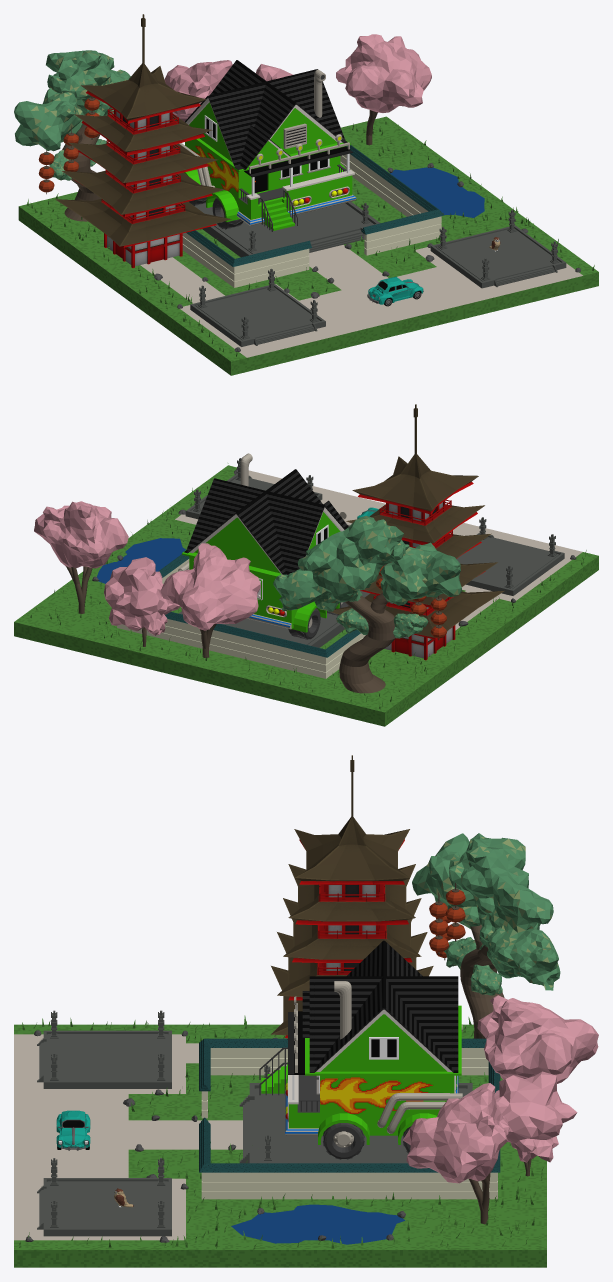
3 views of the same model, one above another, from view 1: azimuth 30°, elevation 25°; view 2: azimuth 150°, elevation 25°; view 3: azimuth 270°, elevation 25° (orthographic). The views are drawn at different scales.
Visible parts, largest first — view 1: Cube.005, Cube.1474, VEHICLES_VOLKSWAGEN; view 2: Cube.005, Cube.1474; view 3: Cube.005, Cube.1474, VEHICLES_VOLKSWAGEN.
Part boxes in pixels (x1=…): Cube.005: x1=14, y1=14, x2=598, y2=375; Cube.1474: x1=179, y1=60, x2=356, y2=231; VEHICLES_VOLKSWAGEN: x1=367, y1=276, x2=423, y2=306; Cube.005: x1=14, y1=404, x2=598, y2=726; Cube.1474: x1=178, y1=453, x2=350, y2=639; Cube.005: x1=14, y1=755, x2=598, y2=1267; Cube.1474: x1=259, y1=940, x2=462, y2=1159; VEHICLES_VOLKSWAGEN: x1=56, y1=1110, x2=90, y2=1150.
Size of the model in its own units: 4528 by 2668 by 4389.
Materials: 42 (6 with a texture image).
